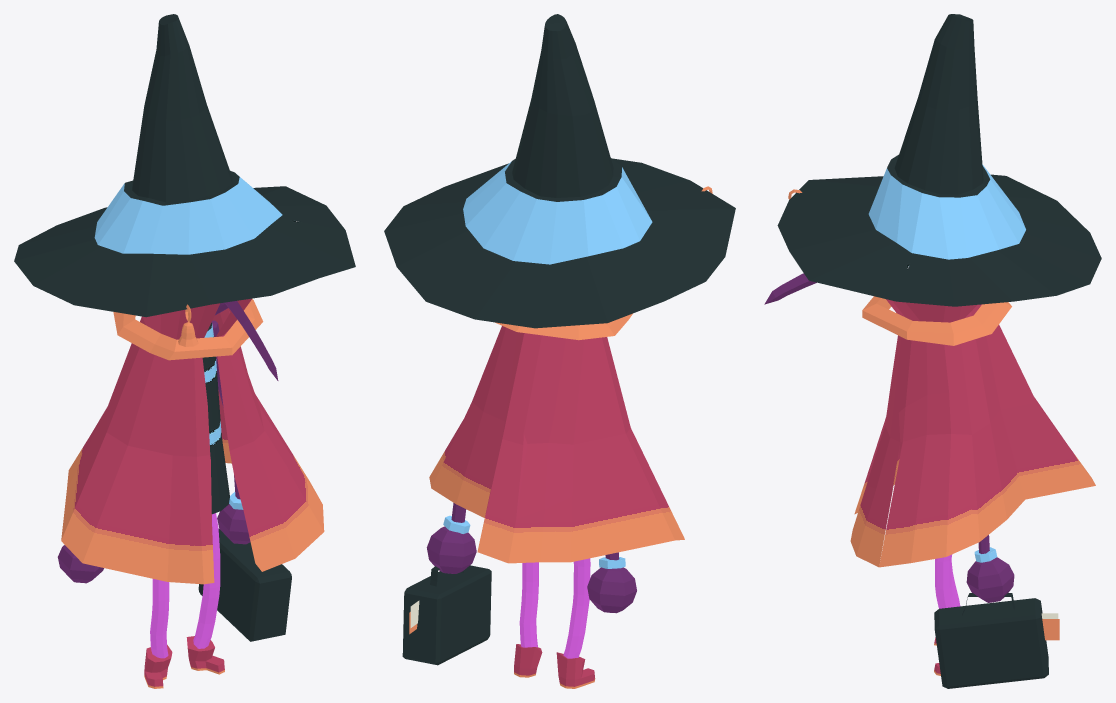
Rendered from low_poly_wizard_traveler.glb.
3 views of the same model, side by side, from view 1: azimuth 30°, elevation 25°; view 2: azimuth 150°, elevation 25°; view 3: azimuth 270°, elevation 25° (orthographic). The views are drawn at different scales.
Visible parts, largest first — view 1: Hat, Cape, SuitCase, Knot, Legs, Chest, Arms, Feet, Head; view 2: Hat, Cape, SuitCase, Arms, Legs, Feet, Knot; view 3: Hat, Cape, SuitCase, Knot, Arms, Legs, Head.
Part boxes in pixels (<box>): Hat: <box>14,14,355,317</box>; Cape: <box>61,298,324,584</box>; SuitCase: <box>198,529,291,641</box>; Knot: <box>113,299,263,360</box>; Legs: <box>150,513,220,658</box>; Chest: <box>202,322,229,514</box>; Arms: <box>57,320,250,583</box>; Feet: <box>144,636,224,688</box>; Head: <box>215,301,278,380</box>; Hat: <box>384,14,735,328</box>; Cape: <box>429,326,684,563</box>; SuitCase: <box>402,565,491,665</box>; Arms: <box>426,503,636,613</box>; Legs: <box>519,558,590,658</box>; Feet: <box>514,644,595,688</box>; Knot: <box>495,313,632,340</box>; Hat: <box>777,14,1101,306</box>; Cape: <box>850,299,1095,567</box>; SuitCase: <box>934,593,1059,688</box>; Knot: <box>862,296,1011,345</box>; Arms: <box>966,535,1014,602</box>; Legs: <box>935,554,960,608</box>; Head: <box>764,273,816,304</box>.
Size of the model in its own units: 142 by 301 by 143.
9 materials, 9 textured.
